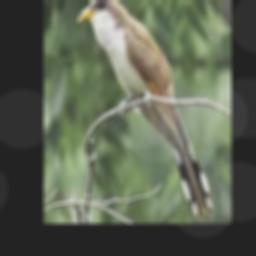Cuckoo: (78, 0, 213, 218)
